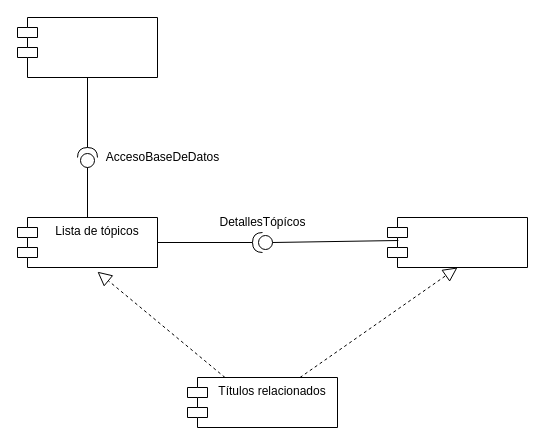
Some shapes in this 545 by 445 pixel diagram are drawn without their labels. The shapes that lost their labels are listed below. From the top down, each one's centre as x and y in pixels, then its label:
At point (87, 47): "Búsqueda".
At point (457, 242): "Vista de tópicos".
